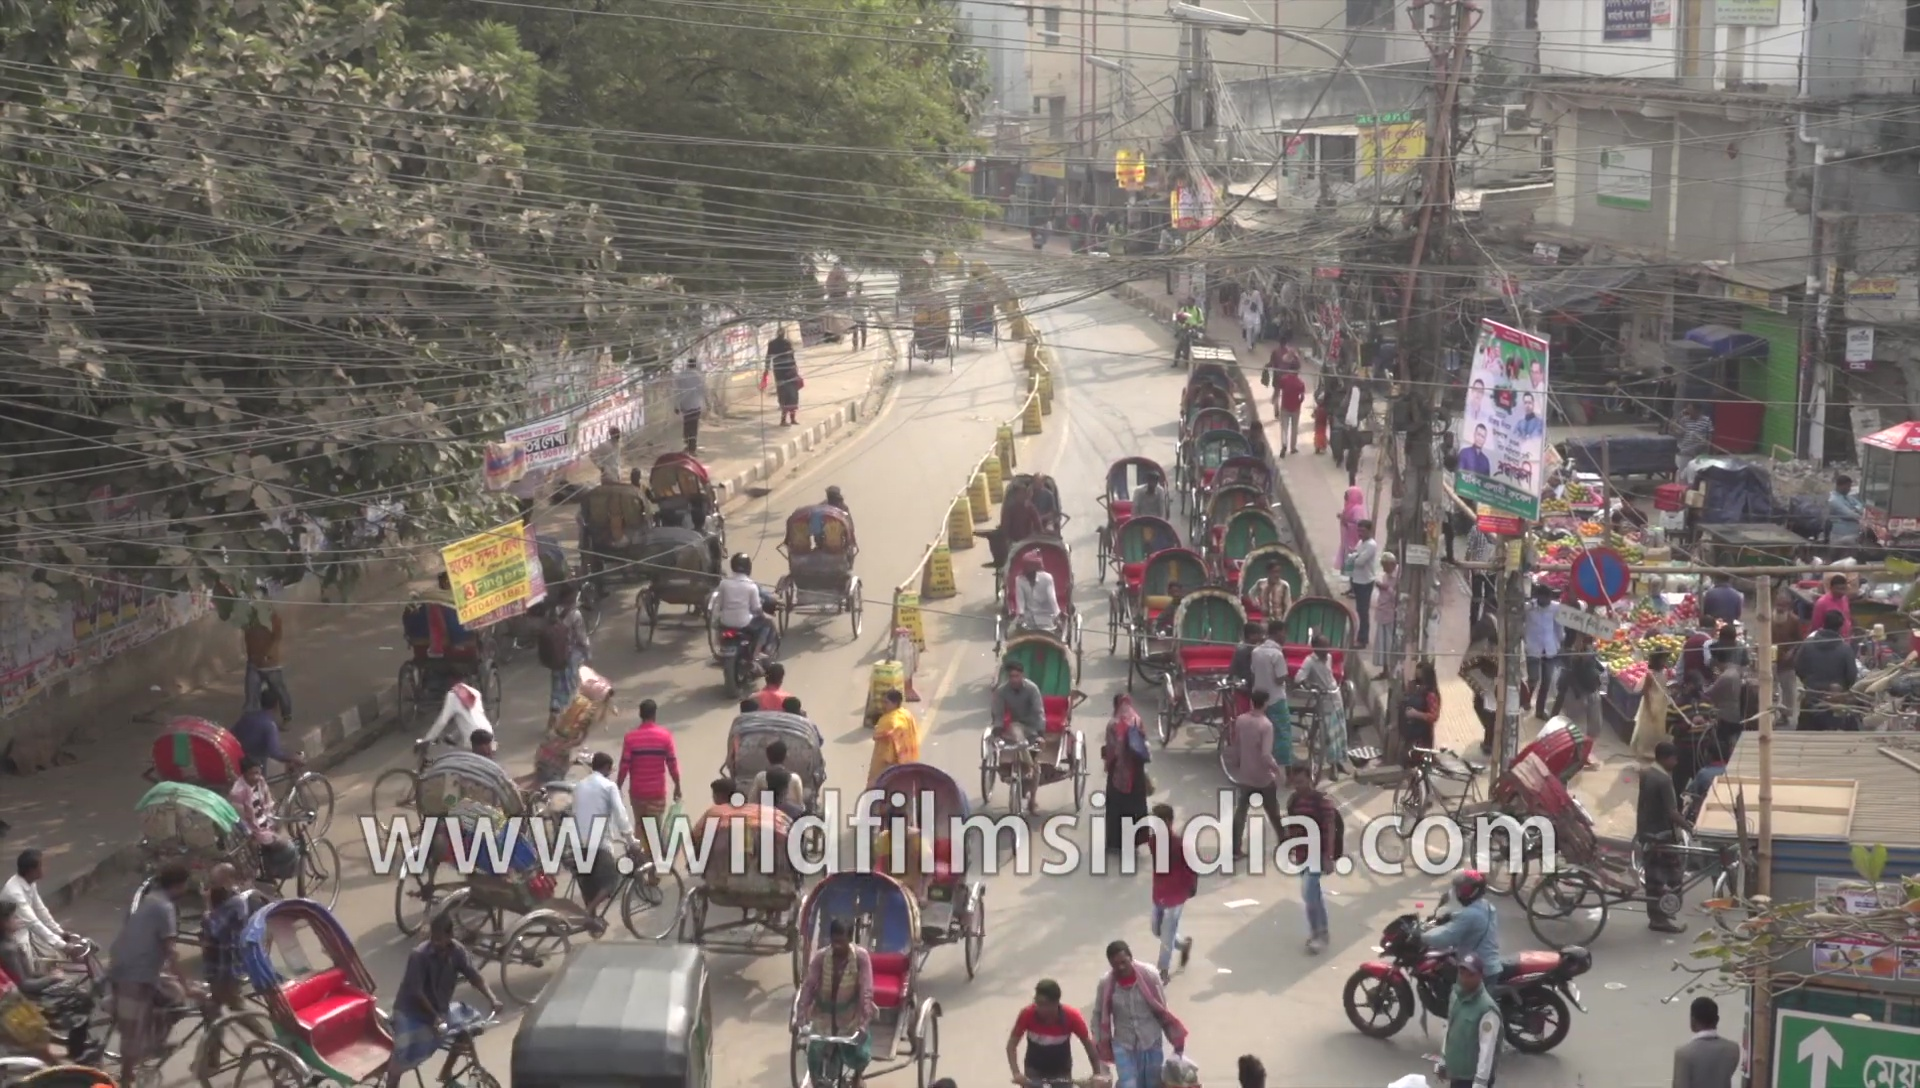5: (240, 892, 513, 1088), (781, 869, 940, 1088)
bicycle: (1354, 923, 1594, 1062)
bus: (514, 938, 720, 1088)
